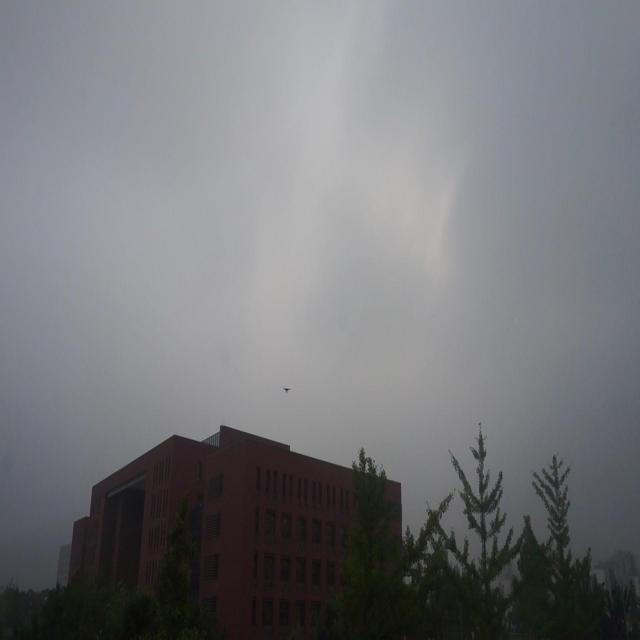UAV: (282, 388, 290, 394)
